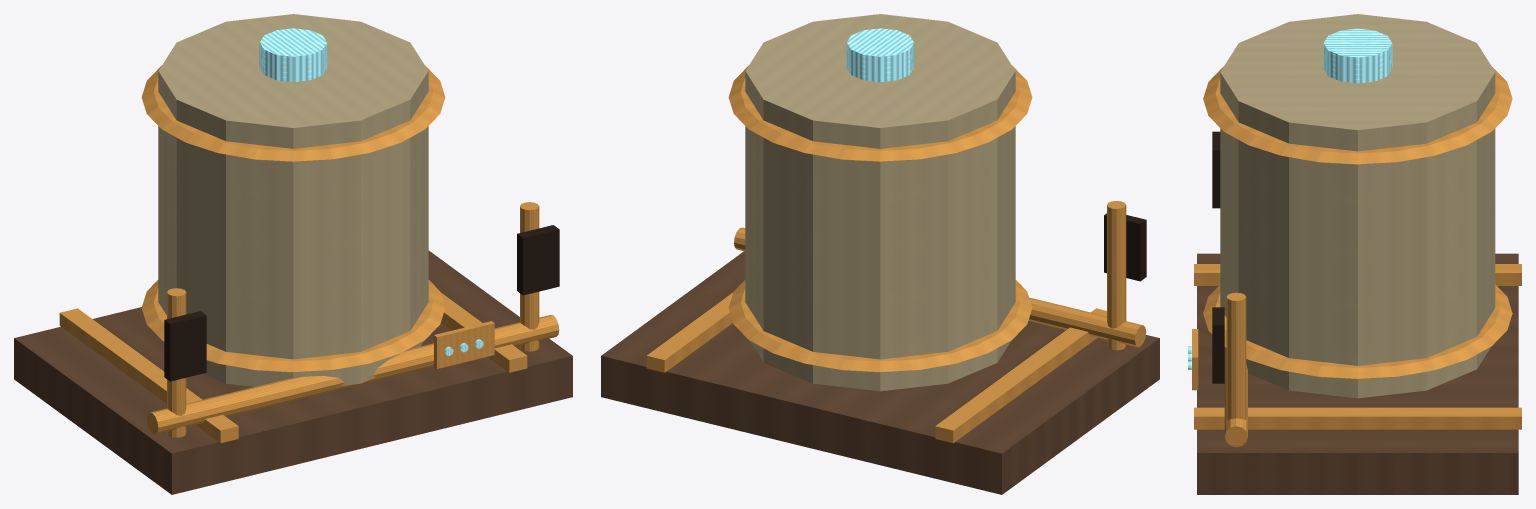
The model's file is atlas100-s019-a04.glb.
3 renders of one model, left to right at view 1: azimuth 30°, elevation 25°; view 2: azimuth 150°, elevation 25°; view 3: azimuth 270°, elevation 25°, orthographic.
Parts seen in each view (by area): view 1: atlas100-s019-a04:part-003, atlas100-s019-a04:part-000, atlas100-s019-a04:part-011, atlas100-s019-a04:part-005, atlas100-s019-a04:part-004, atlas100-s019-a04:part-001, atlas100-s019-a04:part-006, atlas100-s019-a04:part-008, atlas100-s019-a04:part-010, atlas100-s019-a04:part-012, atlas100-s019-a04:part-002, atlas100-s019-a04:part-007 (+1 smaller); view 2: atlas100-s019-a04:part-003, atlas100-s019-a04:part-000, atlas100-s019-a04:part-004, atlas100-s019-a04:part-005, atlas100-s019-a04:part-001, atlas100-s019-a04:part-006, atlas100-s019-a04:part-011, atlas100-s019-a04:part-007, atlas100-s019-a04:part-002, atlas100-s019-a04:part-008; view 3: atlas100-s019-a04:part-003, atlas100-s019-a04:part-000, atlas100-s019-a04:part-002, atlas100-s019-a04:part-005, atlas100-s019-a04:part-004, atlas100-s019-a04:part-006, atlas100-s019-a04:part-009, atlas100-s019-a04:part-001, atlas100-s019-a04:part-010, atlas100-s019-a04:part-011, atlas100-s019-a04:part-008, atlas100-s019-a04:part-012.
Boxes of the visible parts, <box> form: atlas100-s019-a04:part-003: <box>158,14,428,386</box>; atlas100-s019-a04:part-000: <box>14,250,572,494</box>; atlas100-s019-a04:part-011: <box>147,315,559,434</box>; atlas100-s019-a04:part-005: <box>141,65,445,161</box>; atlas100-s019-a04:part-004: <box>141,280,445,372</box>; atlas100-s019-a04:part-001: <box>59,308,238,443</box>; atlas100-s019-a04:part-006: <box>259,28,327,82</box>; atlas100-s019-a04:part-008: <box>164,311,206,381</box>; atlas100-s019-a04:part-010: <box>517,225,559,295</box>; atlas100-s019-a04:part-012: <box>434,321,494,368</box>; atlas100-s019-a04:part-002: <box>440,292,527,372</box>; atlas100-s019-a04:part-007: <box>167,288,186,437</box>; atlas100-s019-a04:part-003: <box>745,14,1015,391</box>; atlas100-s019-a04:part-000: <box>601,251,1159,494</box>; atlas100-s019-a04:part-004: <box>728,280,1032,372</box>; atlas100-s019-a04:part-005: <box>728,65,1032,161</box>; atlas100-s019-a04:part-001: <box>935,308,1106,443</box>; atlas100-s019-a04:part-006: <box>846,28,914,82</box>; atlas100-s019-a04:part-011: <box>734,227,1146,347</box>; atlas100-s019-a04:part-007: <box>1107,201,1126,350</box>; atlas100-s019-a04:part-002: <box>646,292,733,372</box>; atlas100-s019-a04:part-008: <box>1104,213,1146,281</box>; atlas100-s019-a04:part-003: <box>1220,14,1495,398</box>; atlas100-s019-a04:part-000: <box>1197,253,1518,494</box>; atlas100-s019-a04:part-002: <box>1194,407,1521,429</box>; atlas100-s019-a04:part-005: <box>1203,66,1512,164</box>; atlas100-s019-a04:part-004: <box>1203,284,1512,379</box>; atlas100-s019-a04:part-006: <box>1323,28,1392,83</box>; atlas100-s019-a04:part-009: <box>1226,292,1246,419</box>; atlas100-s019-a04:part-001: <box>1194,264,1521,285</box>; atlas100-s019-a04:part-010: <box>1212,307,1224,383</box>; atlas100-s019-a04:part-011: <box>1224,347,1247,447</box>; atlas100-s019-a04:part-008: <box>1212,131,1220,208</box>; atlas100-s019-a04:part-012: <box>1192,329,1198,390</box>.
Bounding box in the file's own units: 2.64 × 2.18 × 1.87.
Materials: 5 (5 with a texture image).
